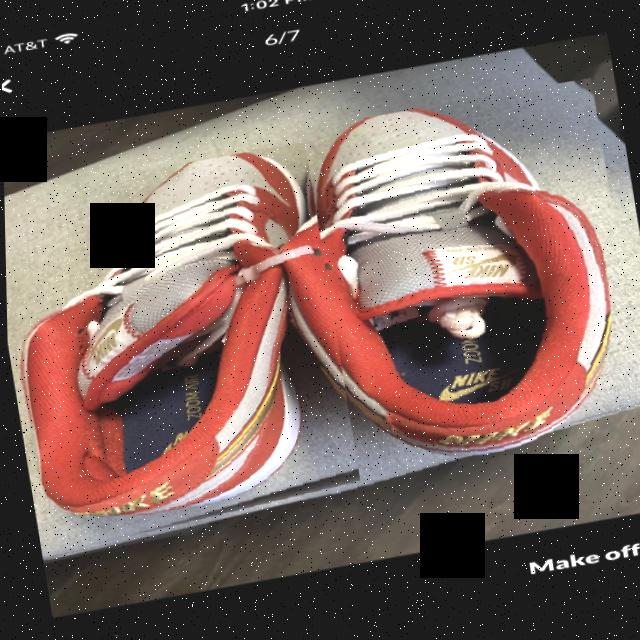shoe: (253, 81, 640, 515), (3, 143, 362, 557)
